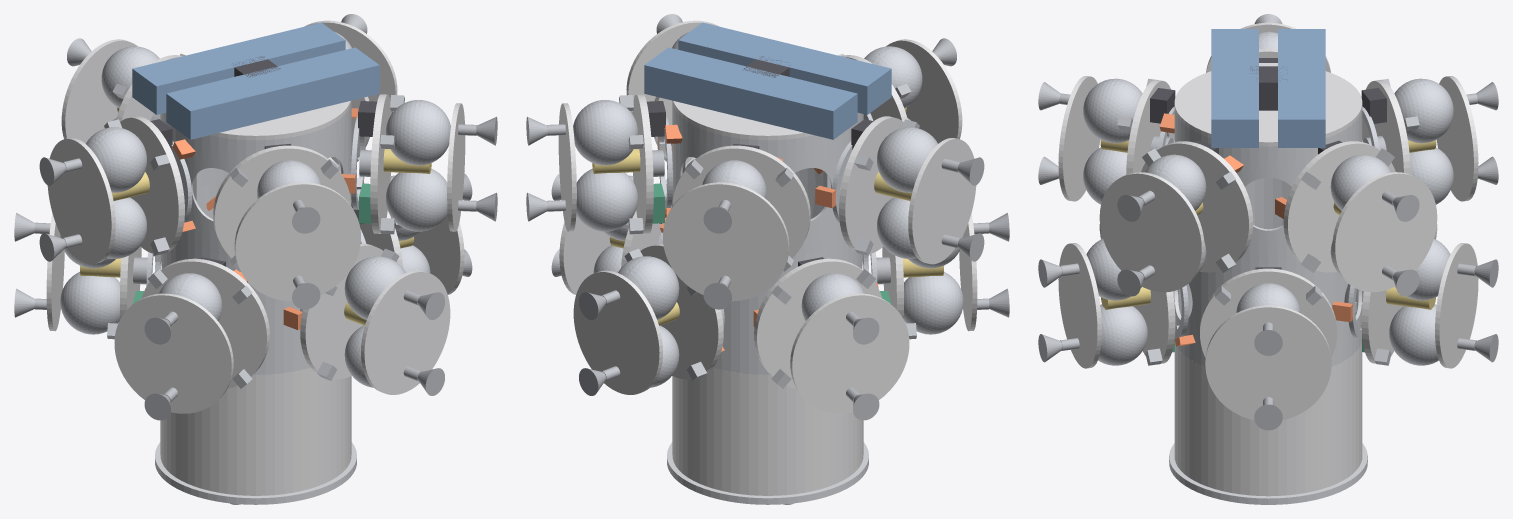
The model's file is v7_carrier_2ring_stowed.glb.
3 views of the same model, side by side, from view 1: azimuth 30°, elevation 25°; view 2: azimuth 150°, elevation 25°; view 3: azimuth 270°, elevation 25° (orthographic).
Parts seen in each view (by area): view 1: bus, wing_1, k13_top, k03_top, k04_top, wing_0, ring_1, k12_top, k03_deck, k13_deck, k12_deck, ring_0 (+40 smaller); view 2: bus, wing_0, k11_top, k02_top, k01_top, wing_1, ring_1, k12_top, k02_deck, k11_deck, k12_deck, ring_0 (+40 smaller); view 3: bus, k00_top, k10_top, k14_top, ring_0, wing_0, wing_1, k10_deck, k14_deck, ring_1, deck, k01_top (+37 smaller).
Boxes of the visible parts, x1,y1,x2,y2 form: bus: (160, 367, 351, 495); wing_1: (166, 47, 379, 139); k13_top: (234, 182, 360, 301); k03_top: (114, 293, 233, 413); k04_top: (361, 270, 450, 394); wing_0: (132, 22, 345, 114); ring_1: (160, 101, 351, 255); k12_top: (47, 138, 115, 264); k03_deck: (141, 258, 269, 388); k13_deck: (213, 145, 350, 258); k12_deck: (120, 116, 184, 253); ring_0: (160, 181, 310, 374); bus: (672, 367, 863, 495); wing_0: (644, 47, 857, 139); k11_top: (663, 182, 789, 301); k02_top: (790, 293, 909, 413); k01_top: (573, 270, 662, 394); wing_1: (678, 22, 891, 114); ring_1: (672, 101, 863, 255); k12_top: (908, 138, 976, 264); k02_deck: (754, 258, 882, 388); k11_deck: (673, 145, 810, 258); k12_deck: (839, 116, 903, 253); ring_0: (713, 181, 863, 374); bus: (1174, 342, 1362, 496); k00_top: (1205, 305, 1331, 420); k10_top: (1332, 172, 1437, 292); k14_top: (1099, 172, 1204, 292); ring_0: (1174, 184, 1362, 366); wing_0: (1278, 29, 1325, 147); wing_1: (1211, 29, 1258, 147); k10_deck: (1283, 141, 1395, 272); k14_deck: (1141, 141, 1253, 272); ring_1: (1174, 110, 1362, 261); deck: (1174, 63, 1362, 146); k01_top: (1435, 243, 1478, 368).
Bounding box in the file's own units: 3.98 × 3.67 × 3.86.
